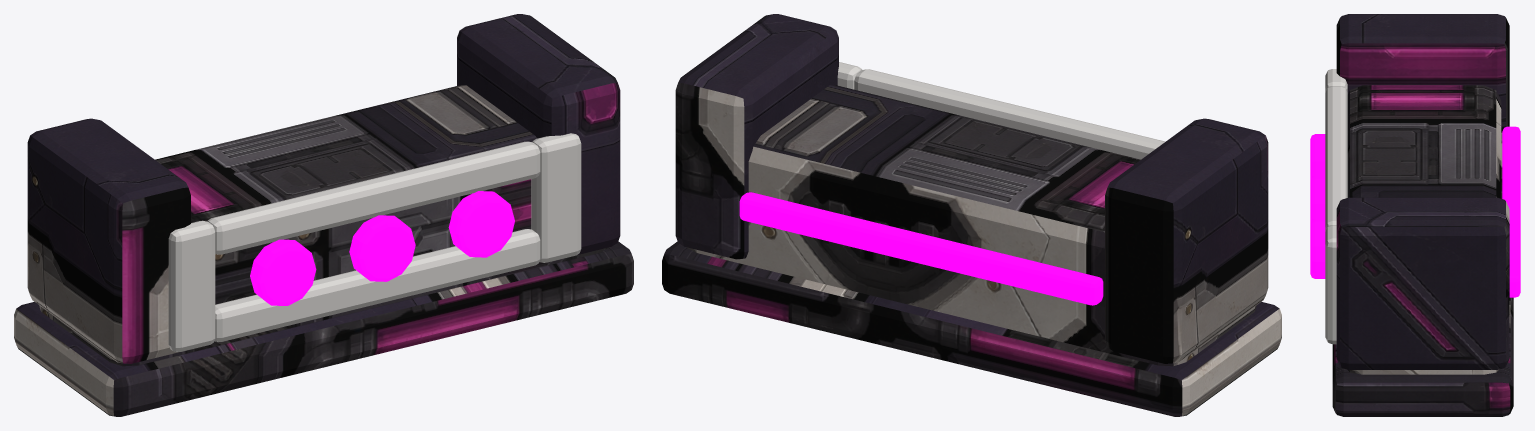
The model's file is SapperSiphonPylonModel.fbx.
3 renders of one model, left to right at view 1: azimuth 30°, elevation 25°; view 2: azimuth 150°, elevation 25°; view 3: azimuth 270°, elevation 25°, orthographic. The views are drawn at different scales.
Visible parts, largest first — view 1: Sapper Cradle Armor, Sapper Cradle Ceramic, Sapper Cradle Energy; view 2: Sapper Cradle Armor, Sapper Cradle Energy, Sapper Cradle Ceramic; view 3: Sapper Cradle Armor, Sapper Cradle Energy, Sapper Cradle Ceramic.
Boxes of the visible parts, box(x1,y1,x2,y2) form: Sapper Cradle Armor: box(14, 14, 633, 416); Sapper Cradle Ceramic: box(168, 133, 581, 351); Sapper Cradle Energy: box(250, 191, 514, 305); Sapper Cradle Armor: box(662, 14, 1281, 416); Sapper Cradle Energy: box(739, 192, 1103, 305); Sapper Cradle Ceramic: box(837, 62, 1165, 159); Sapper Cradle Armor: box(1332, 14, 1513, 416); Sapper Cradle Energy: box(1310, 126, 1520, 297); Sapper Cradle Ceramic: box(1325, 69, 1347, 344).
Bounding box in the file's own units: 2.65 × 1.05 × 1.05.
3 materials, 1 textured.
